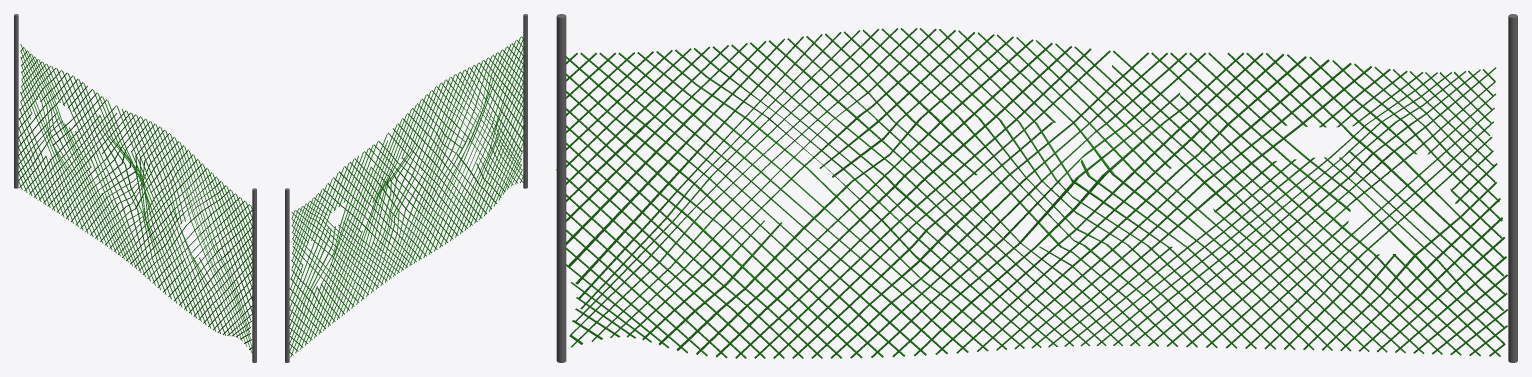
Rendered from FenceDestroyed.fbx.
The picture shows the model from 3 angles, left to right: view 1: azimuth 30°, elevation 25°; view 2: azimuth 150°, elevation 25°; view 3: azimuth 270°, elevation 25°; orthographic projection. The views are drawn at different scales.
Visible parts, largest first — view 1: Cylinder.002, Cylinder, Cylinder.001; view 2: Cylinder.002, Cylinder.001, Cylinder; view 3: Cylinder.002, Cylinder, Cylinder.001.
Boxes of the visible parts, x1,y1,x2,y2 form: Cylinder.002: (17, 44, 255, 352); Cylinder: (252, 188, 256, 362); Cylinder.001: (14, 14, 18, 188); Cylinder.002: (289, 36, 524, 357); Cylinder.001: (285, 188, 289, 362); Cylinder: (523, 14, 527, 188); Cylinder.002: (556, 28, 1507, 358); Cylinder: (556, 14, 566, 362); Cylinder.001: (1508, 14, 1517, 362).
Size of the model in its own units: 21.57 by 200 by 505.
